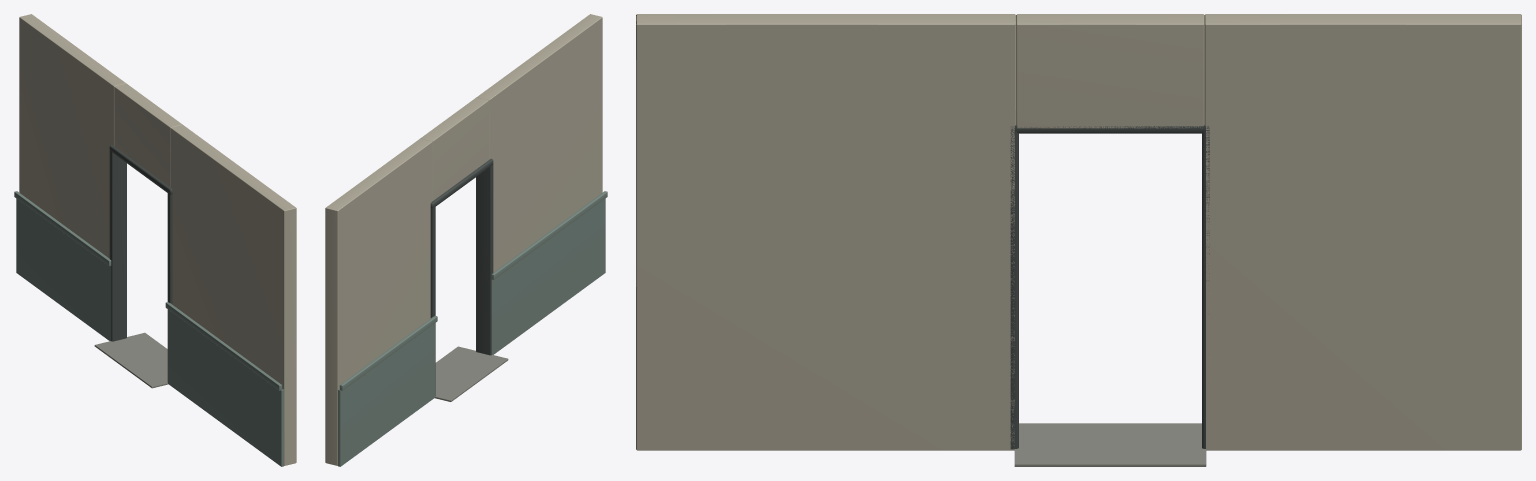
The model's file is Medical_LeftPartition62.fbx.
The picture shows the model from 3 angles, left to right: view 1: azimuth 30°, elevation 25°; view 2: azimuth 150°, elevation 25°; view 3: azimuth 270°, elevation 25°; orthographic projection. The views are drawn at different scales.
Parts seen in each view (by area): view 1: Medical_LeftPartition62; view 2: Medical_LeftPartition62; view 3: Medical_LeftPartition62.
Boxes of the visible parts, box(x1,y1,x2,y2) form: Medical_LeftPartition62: box(14, 14, 296, 466); Medical_LeftPartition62: box(325, 14, 607, 466); Medical_LeftPartition62: box(636, 14, 1521, 466).
Bounding box in the file's own units: 62 × 301 × 564.
